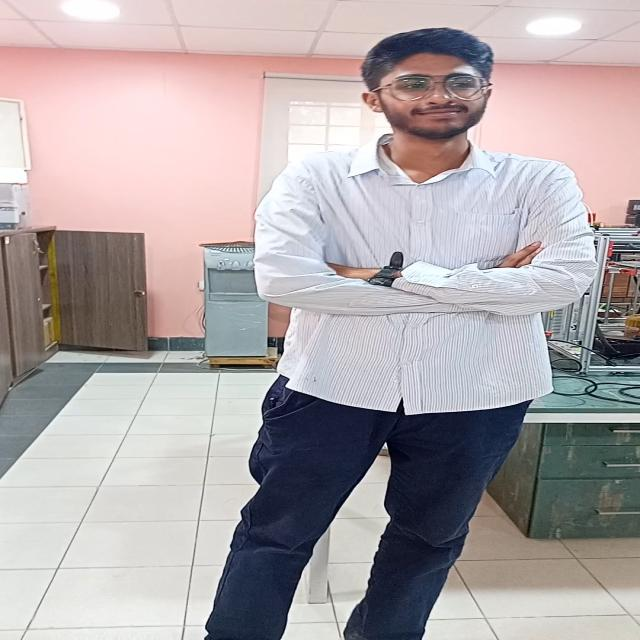dress: (192, 122, 602, 640)
glasses: (388, 72, 493, 101)
